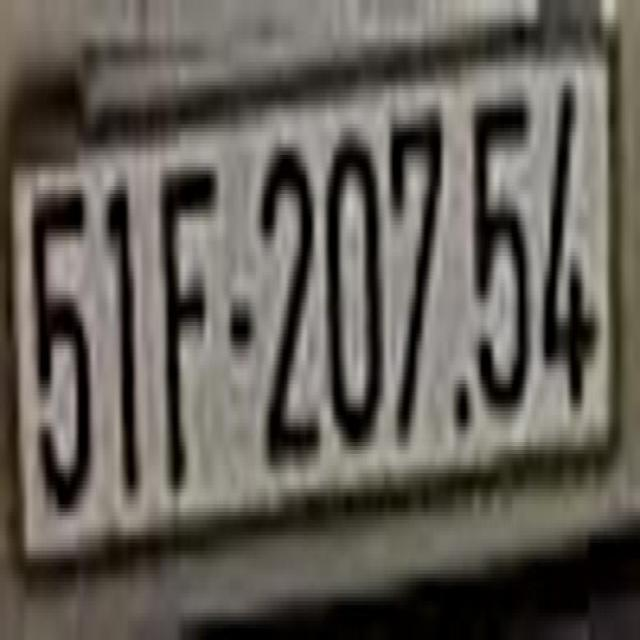0: (326, 136, 382, 462)
1: (103, 151, 143, 512)
2: (257, 140, 321, 473)
4: (542, 62, 599, 407)
5: (31, 175, 94, 512), (472, 70, 530, 423)
7: (390, 105, 444, 442)
F: (156, 140, 217, 508)
